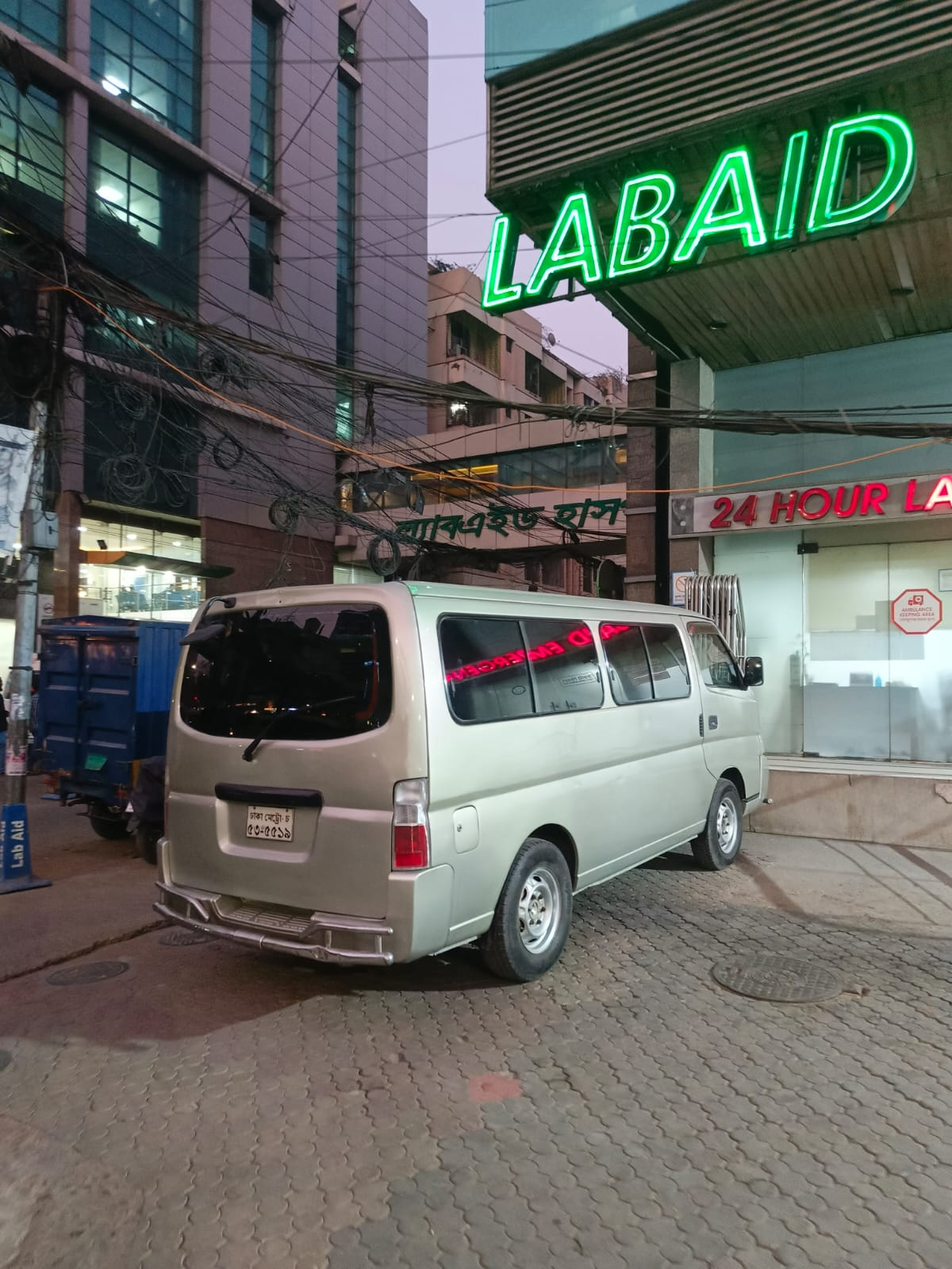Pickup: (32, 577, 190, 860)
private car: (177, 556, 804, 976)
